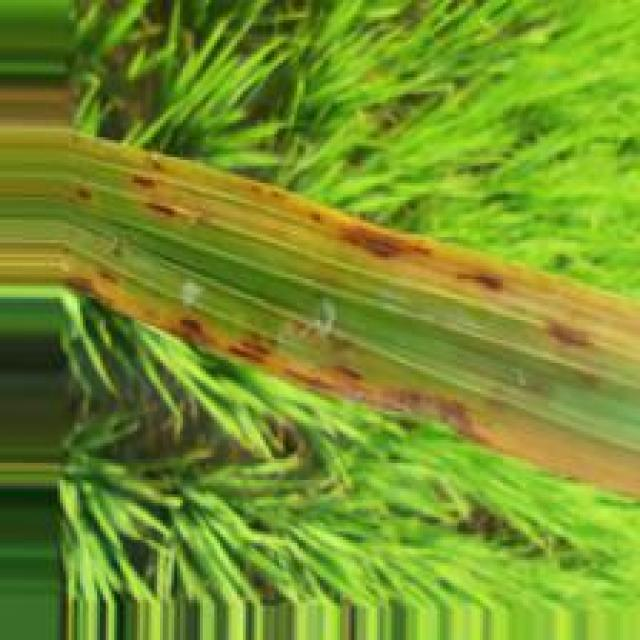Rice Tungro: (119, 151, 640, 356), (3, 239, 483, 446)
